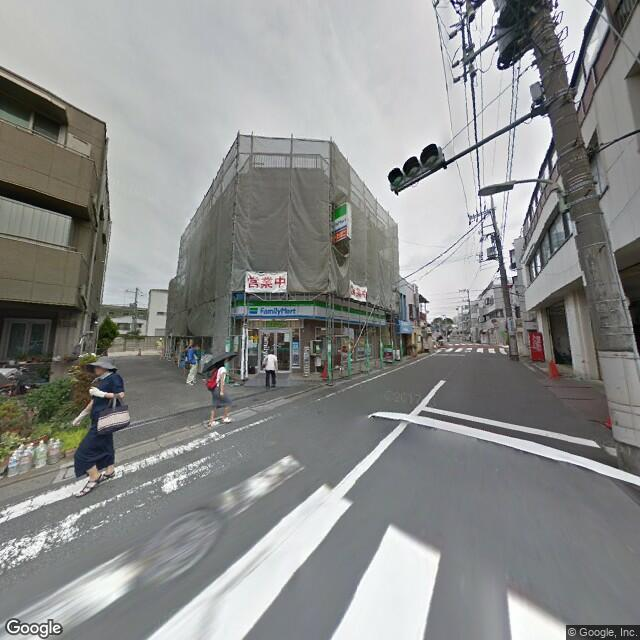family_mart: (232, 300, 393, 334), (247, 301, 299, 322), (330, 200, 350, 236)
